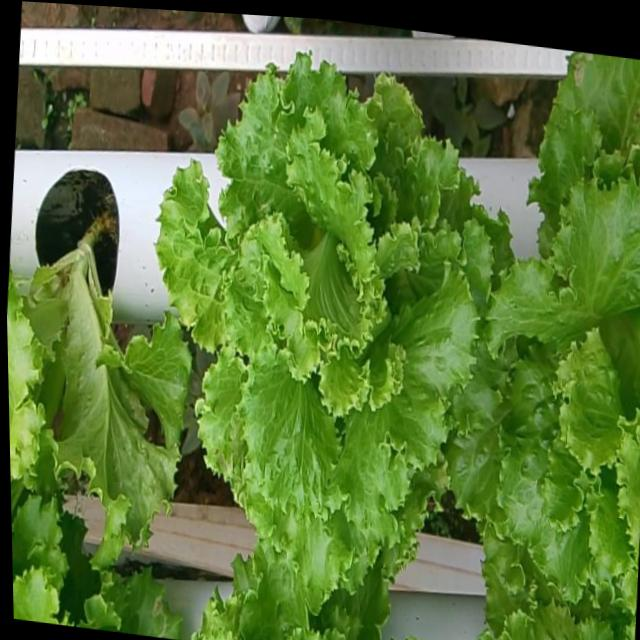Mature: (151, 35, 487, 578), (443, 153, 640, 589)
